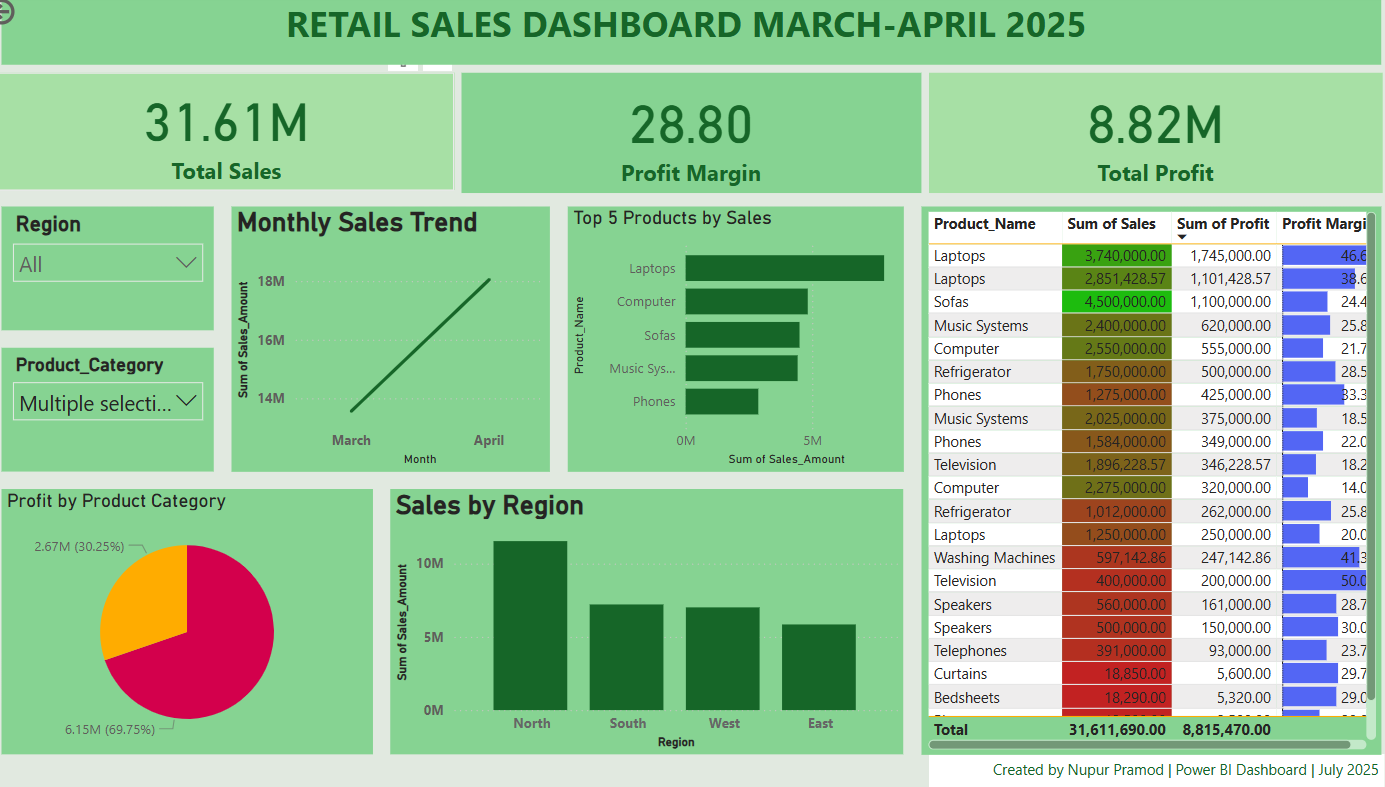

What the dashboard file says about the page in this screenshot:
{"tool":"powerbi","page":{"name":"Sales by Region","canvas":[1280,720],"ordinal":0},"visuals":[{"type":"columnChart","title":"Sales by Region","fields":{"Y":["Sum(Sales_Table.Sales_Amount)"],"Category":["Sales_Table.Region"]},"box":[368,448,464,240],"z":0},{"type":"lineChart","title":"Monthly Sales Trend","fields":{"Category":["Sales_Table.Date.Variation.Date Hierarchy.Month"],"Y":["Sum(Sales_Table.Sales_Amount)"]},"box":[224,192,288,240],"z":1000},{"type":"pieChart","title":"Profit by Product Category","fields":{"Y":["Sum(Sales_Table.2) Profit)"],"Category":["Sales_Table.Product_Category"]},"box":[16,448,336,240],"z":2000},{"type":"slicer","fields":{"Values":["Sales_Table.Region"]},"box":[16,192,192,112],"z":3000},{"type":"slicer","title":"Region","fields":{"Values":["Sales_Table.Product_Category"]},"box":[16,320,192,112],"z":4000},{"type":"card","fields":{"Values":["Sum(Sales_Table.Sales_Amount)"]},"box":[13.7,71.4,411.7,105.7],"z":5000},{"type":"card","title":"Sum of Profit","fields":{"Values":["Sum(Sales_Table.2) Profit)"]},"box":[854.9,71.4,410.3,108.4],"z":6000},{"type":"card","fields":{"Values":["Avg(Sales_Table.3) Average Profit Margin)"]},"box":[432.2,71.4,415.8,108.4],"z":7000},{"type":"textbox","box":[16,0,1248,64],"z":8000},{"type":"textbox","box":[854.9,687.5,411.7,32.9],"z":9000},{"type":"clusteredBarChart","title":"Top 5 Products by Sales","fields":{"Category":["Sales_Table.Product_Name"],"Y":["Sum(Sales_Table.Sales_Amount)"]},"box":[528,192,304,240],"z":10000},{"type":"tableEx","fields":{"Values":["Sales_Table.Product_Name","Sum(Sales_Table.Sales_Amount)","Sum(Sales_Table.2) Profit)","Sales_Table.Profit Margin"]},"box":[848,192,416,496],"z":11000},{"type":"actionButton","box":[0,0,96,32],"z":12000}]}

Visuals, with their boxes in screenshot pixels (x1, y1, x2, y2), scaled from the page's 1280x720 canvas onto the 1385x787 screenshot:
"Sales by Region" columnChart: 398:490:900:752
"Monthly Sales Trend" lineChart: 242:210:554:472
"Profit by Product Category" pieChart: 17:490:381:752
slicer - Sales_Table.Region: 17:210:225:332
"Region" slicer: 17:350:225:472
card - Sum(Sales_Table.Sales_Amount): 15:78:460:194
"Sum of Profit" card: 925:78:1369:197
card - Avg(Sales_Table.3) Average Profit Margin): 468:78:918:197
textbox: 17:0:1368:70
textbox: 925:751:1371:786
"Top 5 Products by Sales" clusteredBarChart: 571:210:900:472
tableEx - Sales_Table.Product_Name x Sum(Sales_Table.Sales_Amount): 918:210:1368:752
actionButton: 0:0:104:35
